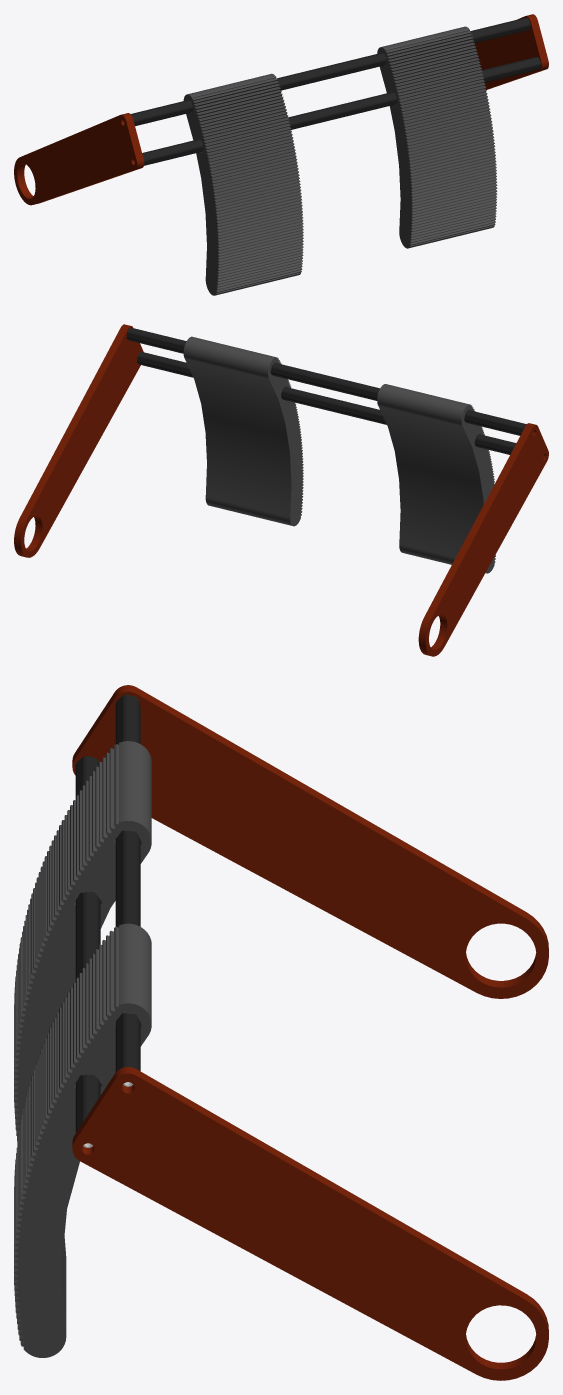
The picture shows the model from 3 angles, top to bottom: view 1: azimuth 30°, elevation 25°; view 2: azimuth 150°, elevation 25°; view 3: azimuth 270°, elevation 25°; orthographic projection. The views are drawn at different scales.
Parts seen in each view (by area): view 1: 0400-A-005 (×2), 0400-A-hood plate, 0400-A-1/2" Thunderhex Shaft (2.131") (×2), 0400-A-004; view 2: 0400-A-005 (×2), 0400-A-hood plate, 0400-A-004, 0400-A-1/2" Thunderhex Shaft (2.131") (×2); view 3: 0400-A-004, 0400-A-005 (×2), 0400-A-hood plate, 0400-A-1/2" Thunderhex Shaft (2.131") (×2).
Part boxes in pixels (box(x1,y1,x2,y2)): 0400-A-005 (×2): box(183, 26, 497, 295); 0400-A-hood plate: box(14, 113, 144, 205); 0400-A-1/2" Thunderhex Shaft (2.131") (×2): box(131, 17, 540, 165); 0400-A-004: box(474, 14, 548, 89); 0400-A-005 (×2): box(183, 336, 495, 573); 0400-A-hood plate: box(418, 423, 548, 656); 0400-A-004: box(14, 324, 143, 557); 0400-A-1/2" Thunderhex Shaft (2.131") (×2): box(126, 327, 526, 454); 0400-A-004: box(72, 1067, 548, 1380); 0400-A-005 (×2): box(14, 741, 151, 1357); 0400-A-hood plate: box(72, 685, 548, 998); 0400-A-1/2" Thunderhex Shaft (2.131") (×2): box(75, 694, 140, 1147).
Bounding box in the file's own units: 0.3715 × 0.1582 × 0.2162.
